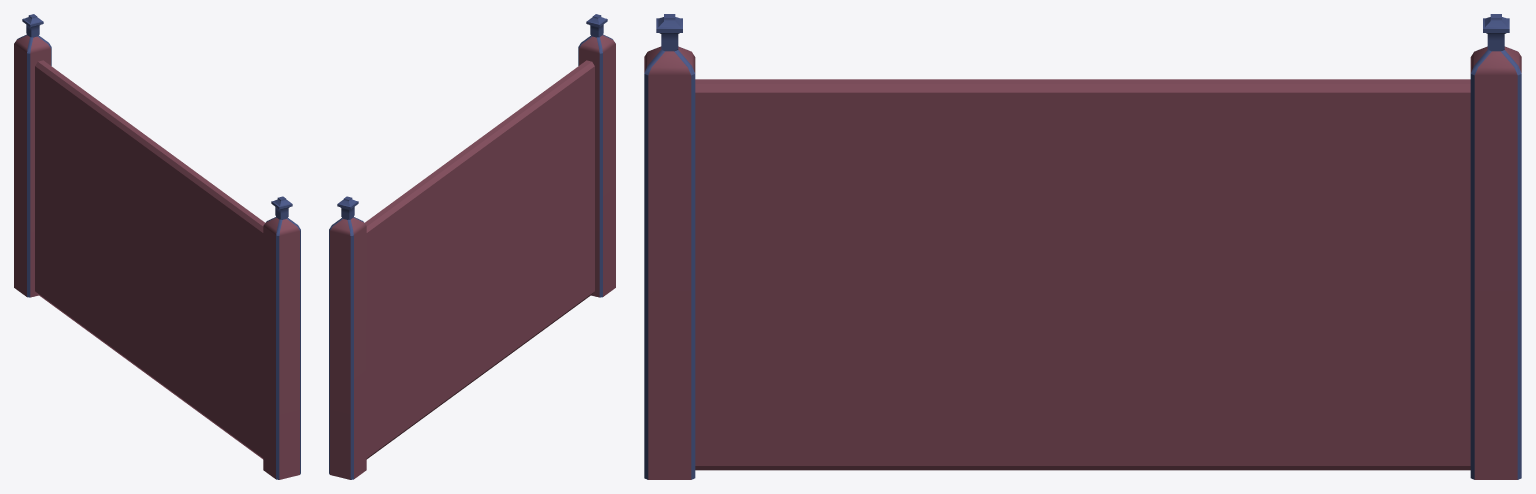
The model's file is wallPillars.fbx.
The picture shows the model from 3 angles, left to right: view 1: azimuth 30°, elevation 25°; view 2: azimuth 150°, elevation 25°; view 3: azimuth 270°, elevation 25°; orthographic projection. The views are drawn at different scales.
Parts seen in each view (by area): view 1: wall2; view 2: wall2; view 3: wall2.
Boxes of the visible parts, left/top/right/bottom form: wall2: left=14, top=14, right=300, bottom=479; wall2: left=329, top=14, right=615, bottom=479; wall2: left=644, top=14, right=1521, bottom=479.
Size of the model in its own units: 0.217 by 2.29 by 4.01.
